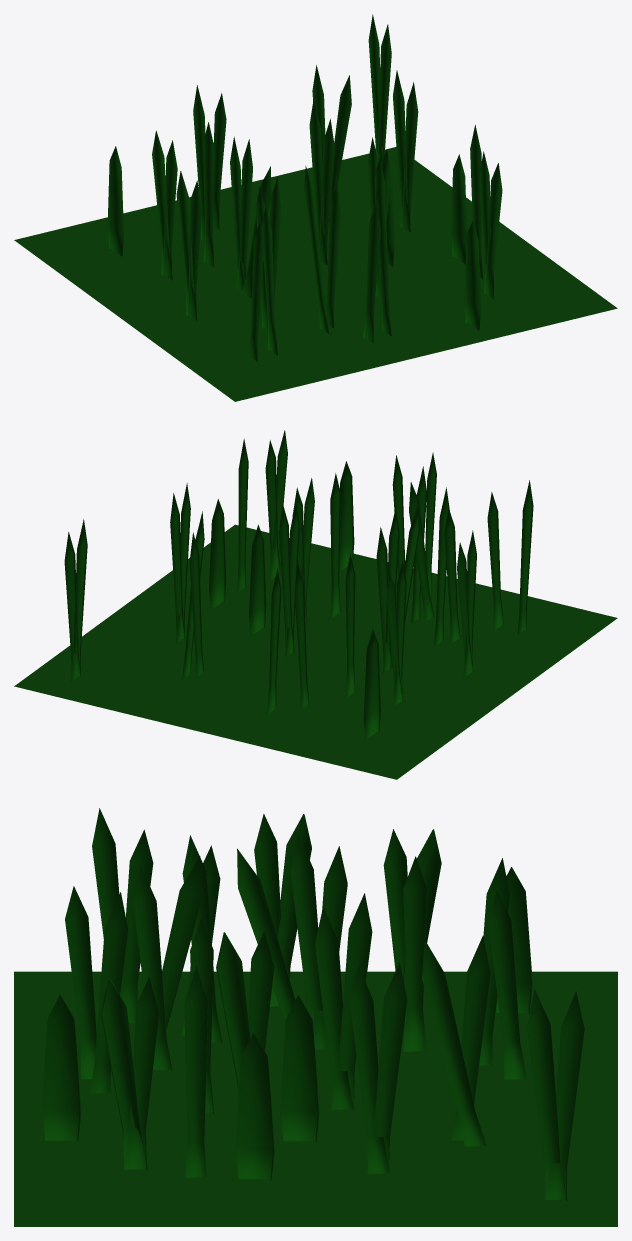
The model's file is BigLongGrass.obj.
3 renders of one model, top to bottom at view 1: azimuth 30°, elevation 25°; view 2: azimuth 150°, elevation 25°; view 3: azimuth 270°, elevation 25°, orthographic. The views are drawn at different scales.
Parts seen in each view (by area): view 1: Plane, Phat.001, Phat.002, Phat.003, Long.001, Long.019, Long.023, Long.020, Long.018, Double2.003, Long.008, Long.009 (+22 smaller); view 2: Plane, Phat, Phat.001, Phat.003, Long.008, Long, Phat.002, Long.004, Long.013, Long.003, Long.002, Long.012 (+25 smaller); view 3: Plane, Phat, Phat.002, Phat.003, Long.022, Long.013, Long.023, Long.019, Long.004, Long.021, Long.018, Long.007 (+25 smaller).
Boxes of the visible parts, x1,y1,x2,y2 form: Plane: [14, 147, 617, 401]; Phat.001: [107, 146, 123, 256]; Phat.002: [464, 220, 480, 330]; Phat.003: [451, 154, 466, 264]; Long.001: [303, 166, 329, 333]; Long.019: [400, 82, 418, 231]; Long.023: [203, 122, 214, 266]; Long.020: [362, 204, 380, 343]; Long.018: [319, 118, 334, 264]; Double2.003: [185, 180, 202, 320]; Long.008: [249, 218, 264, 361]; Long.009: [326, 182, 340, 328]; Plane: [14, 524, 617, 779]; Phat: [249, 524, 266, 635]; Phat.001: [363, 629, 380, 739]; Phat.003: [209, 499, 226, 610]; Long.008: [517, 480, 533, 634]; Long: [330, 473, 340, 618]; Phat.002: [339, 461, 354, 571]; Long.004: [64, 532, 80, 681]; Long.013: [237, 438, 248, 593]; Long.003: [487, 492, 503, 630]; Long.002: [444, 508, 460, 644]; Long.012: [294, 562, 309, 710]; Plane: [14, 971, 617, 1226]; Phat: [280, 995, 319, 1142]; Phat.002: [42, 994, 81, 1141]; Phat.003: [235, 1033, 274, 1179]; Long.022: [422, 940, 486, 1146]; Long.013: [184, 966, 207, 1177]; Long.023: [403, 856, 426, 1051]; Long.019: [350, 965, 389, 1173]; Long.004: [545, 991, 584, 1200]; Long.021: [488, 890, 526, 1079]; Long.018: [315, 906, 353, 1109]; Long.007: [527, 989, 567, 1200].
Size of the model in its own units: 6.02 by 2.64 by 6.02.
